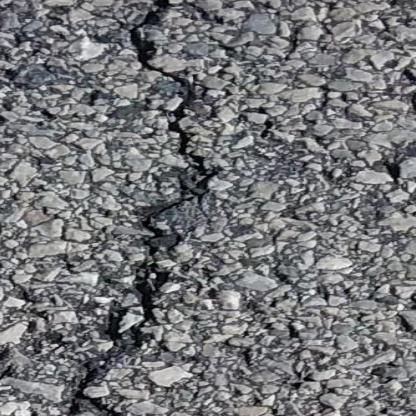Cracks: (0, 372, 416, 416)
